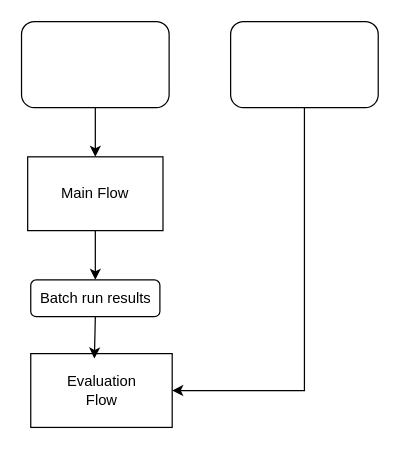
Some shapes in this 400 by 449 pixel diagram are drawn without their labels. Here are the shapes that lost their labels. From the top down, the centre of each, then its label:
point (94, 64): Ground truth files file1.pdf file2.pdf file3.pdf
point (303, 64): Ground truth labels {"issue": ...} {"issue": ...} {"issue": ...}
